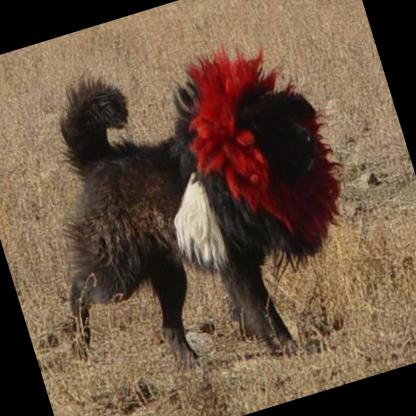Tibetan_mastiff: (0, 12, 379, 410)
